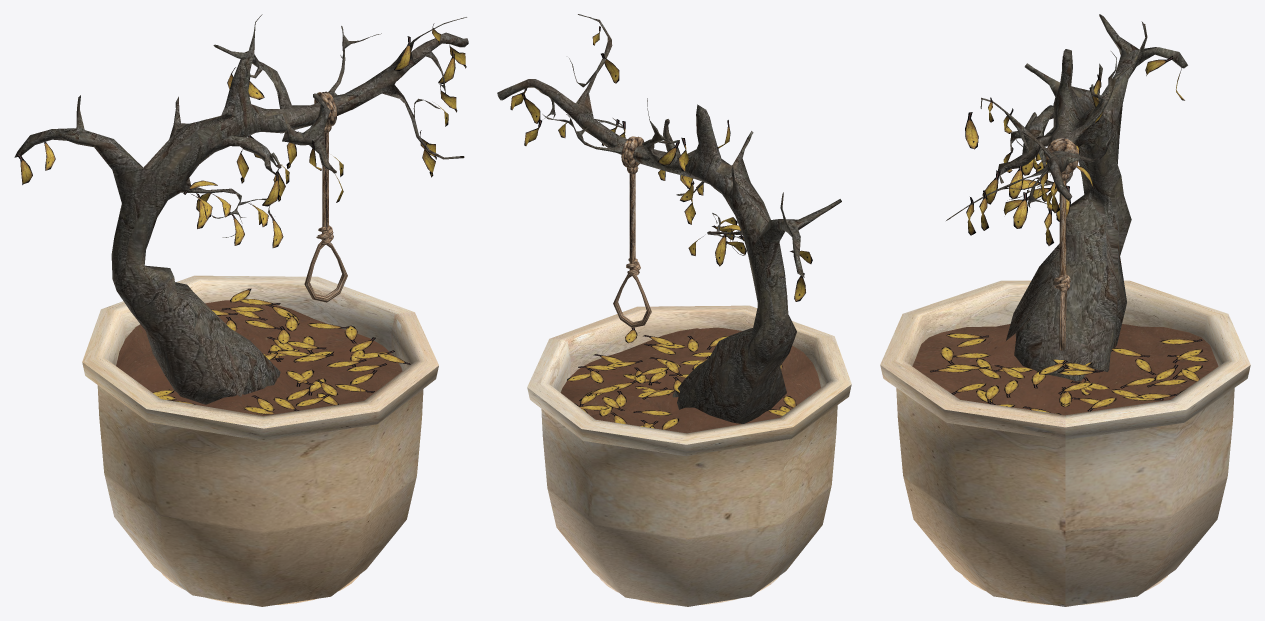
The model's file is hersh_lauren_wk8_plant.glb.
The picture shows the model from 3 angles, left to right: view 1: azimuth 30°, elevation 25°; view 2: azimuth 150°, elevation 25°; view 3: azimuth 270°, elevation 25°; orthographic projection. The views are drawn at different scales.
Visible parts, largest first — view 1: Object_2, Object_3, Object_4, Object_6, Object_5; view 2: Object_2, Object_3, Object_4, Object_6, Object_5; view 3: Object_2, Object_3, Object_4, Object_6, Object_5.
Part boxes in pixels (x1=…): Object_2: x1=82, y1=275, x2=438, y2=606; Object_3: x1=14, y1=14, x2=468, y2=404; Object_4: x1=116, y1=300, x2=402, y2=415; Object_6: x1=16, y1=23, x2=466, y2=414; Object_5: x1=304, y1=91, x2=347, y2=302; Object_2: x1=527, y1=305, x2=851, y2=606; Object_3: x1=497, y1=14, x2=841, y2=423; Object_4: x1=560, y1=327, x2=820, y2=433; Object_6: x1=510, y1=26, x2=812, y2=429; Object_5: x1=613, y1=136, x2=651, y2=327; Object_2: x1=880, y1=280, x2=1250, y2=606; Object_3: x1=946, y1=14, x2=1187, y2=381; Object_4: x1=912, y1=324, x2=1218, y2=415; Object_6: x1=930, y1=56, x2=1208, y2=414; Object_5: x1=1045, y1=138, x2=1078, y2=350.
Bounding box in the file's own units: 43.08 × 55.56 × 34.93.
Materials: 5 (5 with a texture image).
